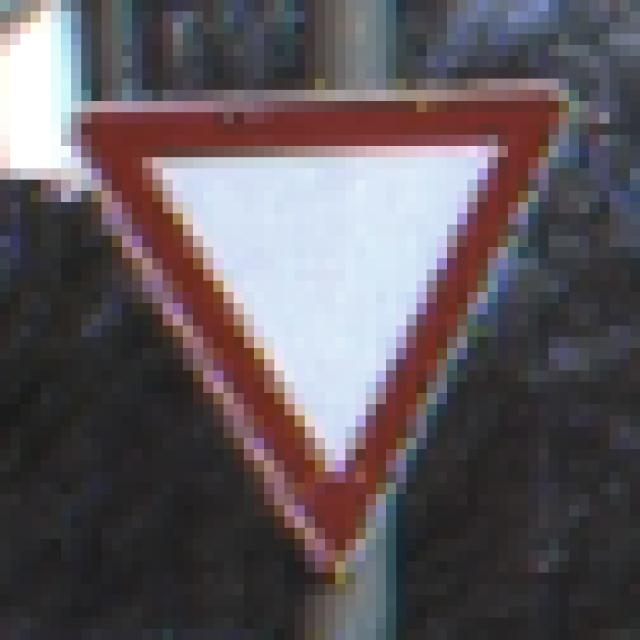Give Way: (52, 57, 590, 585)
